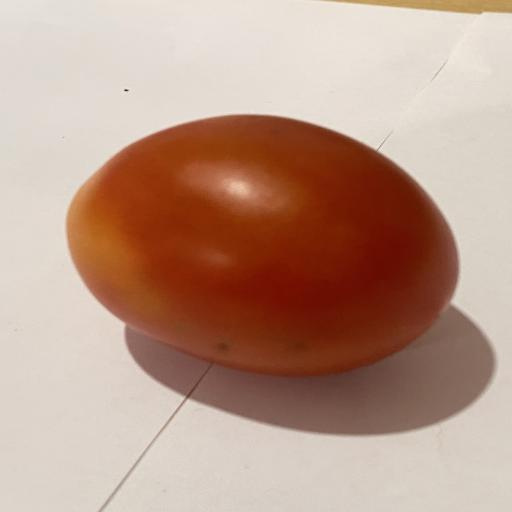ripe: (67, 115, 458, 376)
